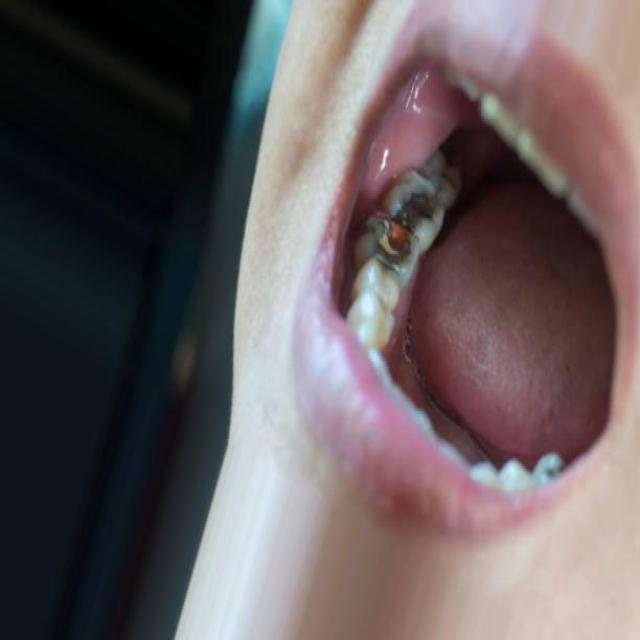caries: (366, 212, 415, 276), (396, 178, 439, 236)
